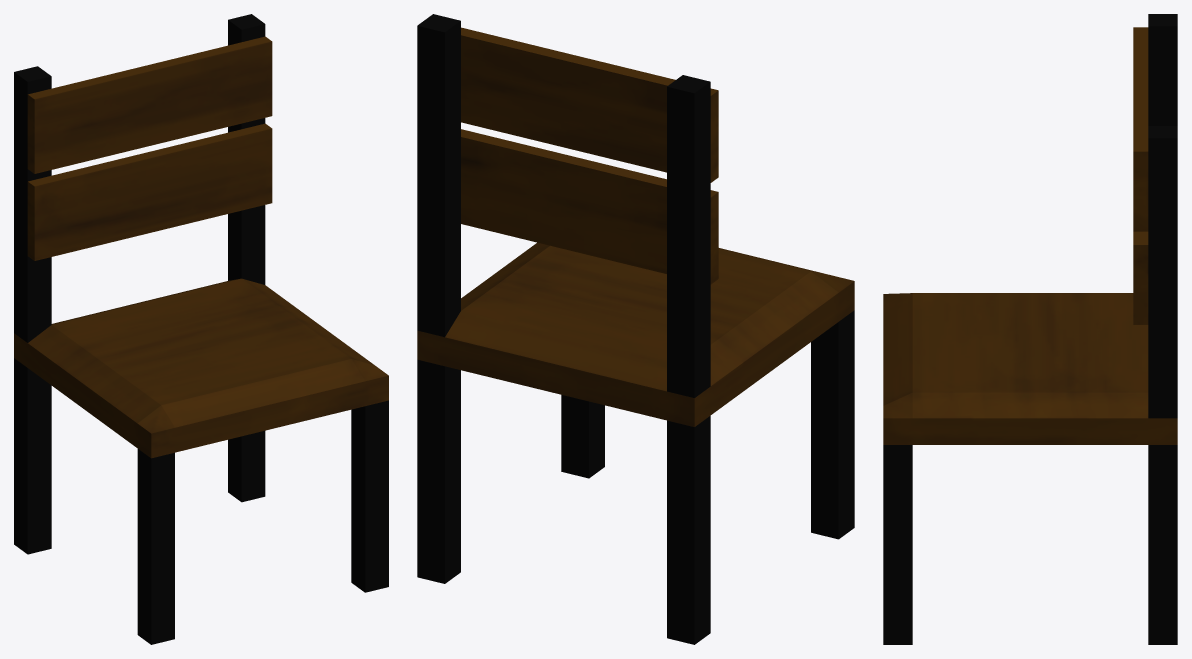
Rendered from M_HD_DiningChair.fbx.
The picture shows the model from 3 angles, left to right: view 1: azimuth 30°, elevation 25°; view 2: azimuth 150°, elevation 25°; view 3: azimuth 270°, elevation 25°; orthographic projection. The views are drawn at different scales.
Parts seen in each view (by area): view 1: DiningChair; view 2: DiningChair; view 3: DiningChair.
Boxes of the visible parts, x1=… form: DiningChair: x1=14, y1=14, x2=388, y2=644; DiningChair: x1=417, y1=14, x2=854, y2=644; DiningChair: x1=883, y1=14, x2=1177, y2=644.
Bounding box in the file's own units: 62.5 × 119 × 62.5.
Materials: 1 (1 with a texture image).
